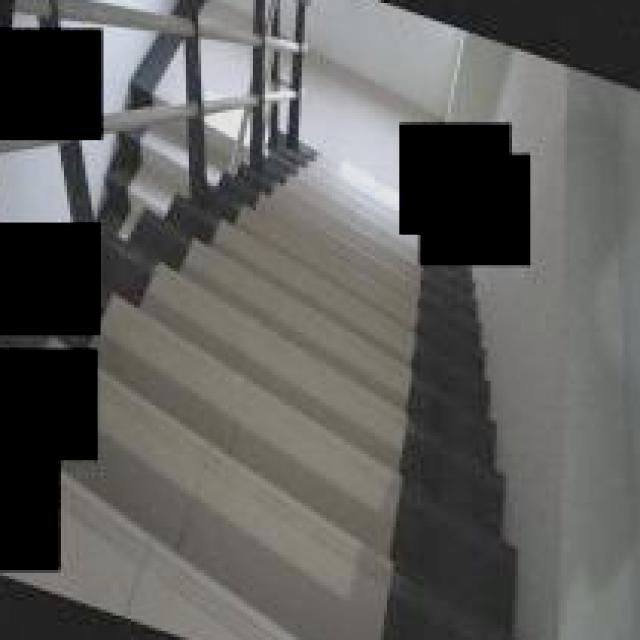downstair: (178, 251, 403, 640)
